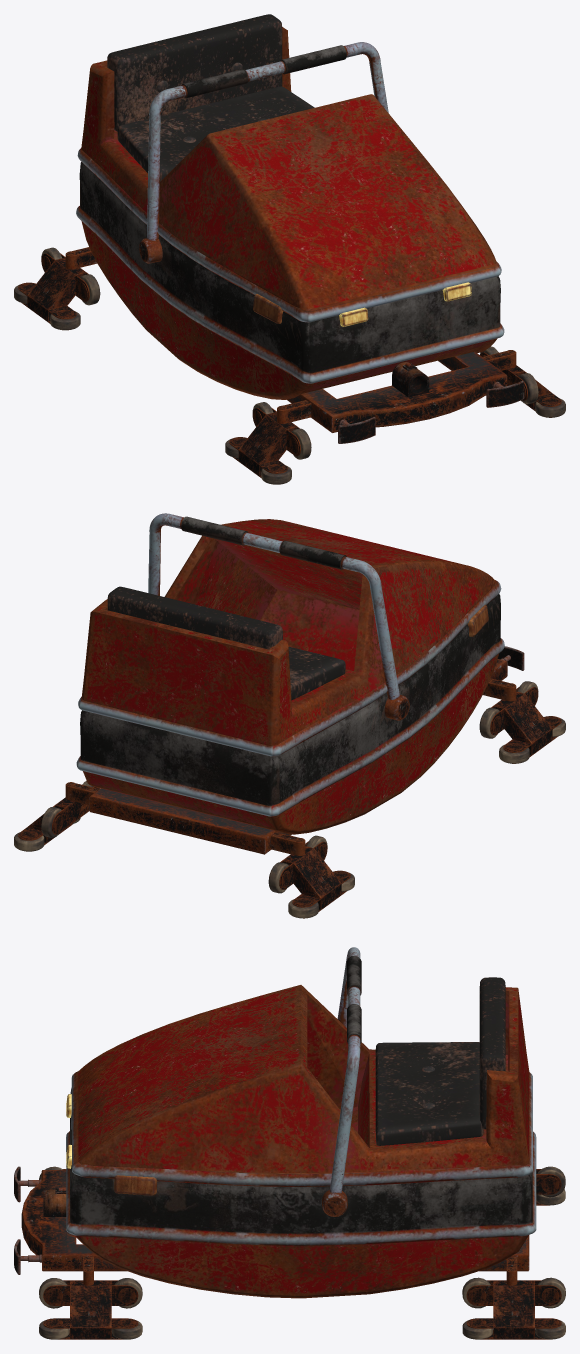
3 renders of one model, top to bottom at view 1: azimuth 30°, elevation 25°; view 2: azimuth 150°, elevation 25°; view 3: azimuth 270°, elevation 25°, orthographic.
Parts seen in each view (by area): view 1: polySurface3, transform47, RollerCoasterCart:RollerCoasterCart:polySurface76_f_4_; view 2: polySurface3, transform47, RollerCoasterCart:RollerCoasterCart:polySurface76_f_4_; view 3: polySurface3, transform47, RollerCoasterCart:RollerCoasterCart:polySurface76_f_4_.
Part boxes in pixels (bbox=[...]): polySurface3: bbox=[76, 27, 504, 399]; transform47: bbox=[14, 14, 565, 484]; RollerCoasterCart:RollerCoasterCart:polySurface76_f_4_: bbox=[139, 42, 507, 432]; polySurface3: bbox=[76, 519, 504, 834]; transform47: bbox=[14, 586, 565, 918]; RollerCoasterCart:RollerCoasterCart:polySurface76_f_4_: bbox=[89, 513, 507, 854]; polySurface3: bbox=[66, 985, 536, 1298]; transform47: bbox=[14, 977, 565, 1339]; RollerCoasterCart:RollerCoasterCart:polySurface76_f_4_: bbox=[21, 947, 529, 1271].
Size of the model in its own units: 1.35 by 1.17 by 2.15.
Materials: 3 (3 with a texture image).
